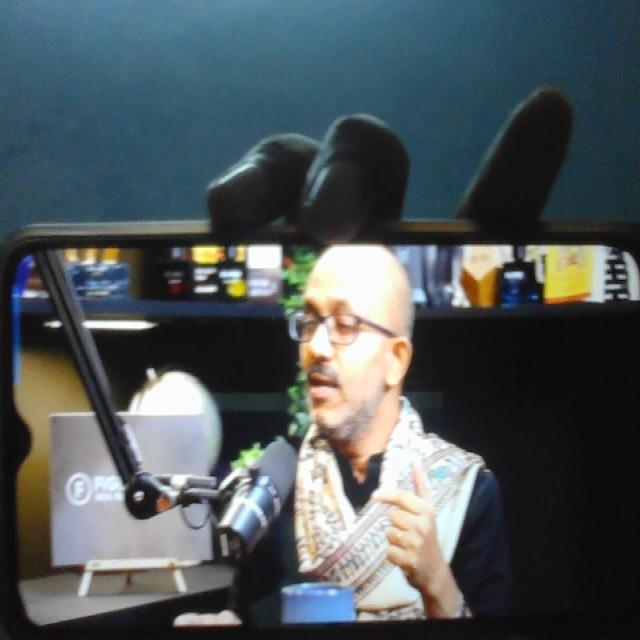fake: (289, 207, 413, 441)
